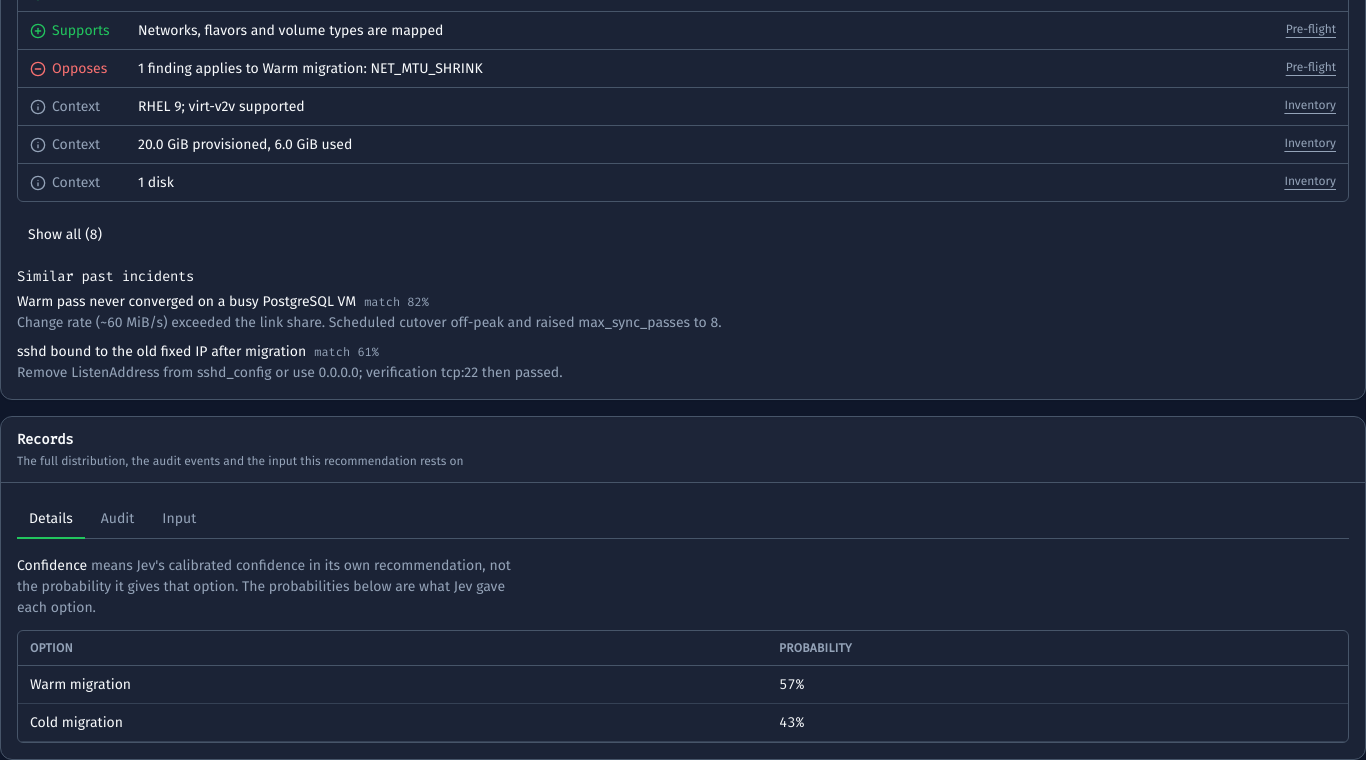
it: Recommendation detail (SDD §14.5, ADV-05) › says so when the input no longer matches its SHA-256
The image size is (1366, 760).
(page scrolled)
Click the tab "Input" at (179, 519), box [150,499,208,539]
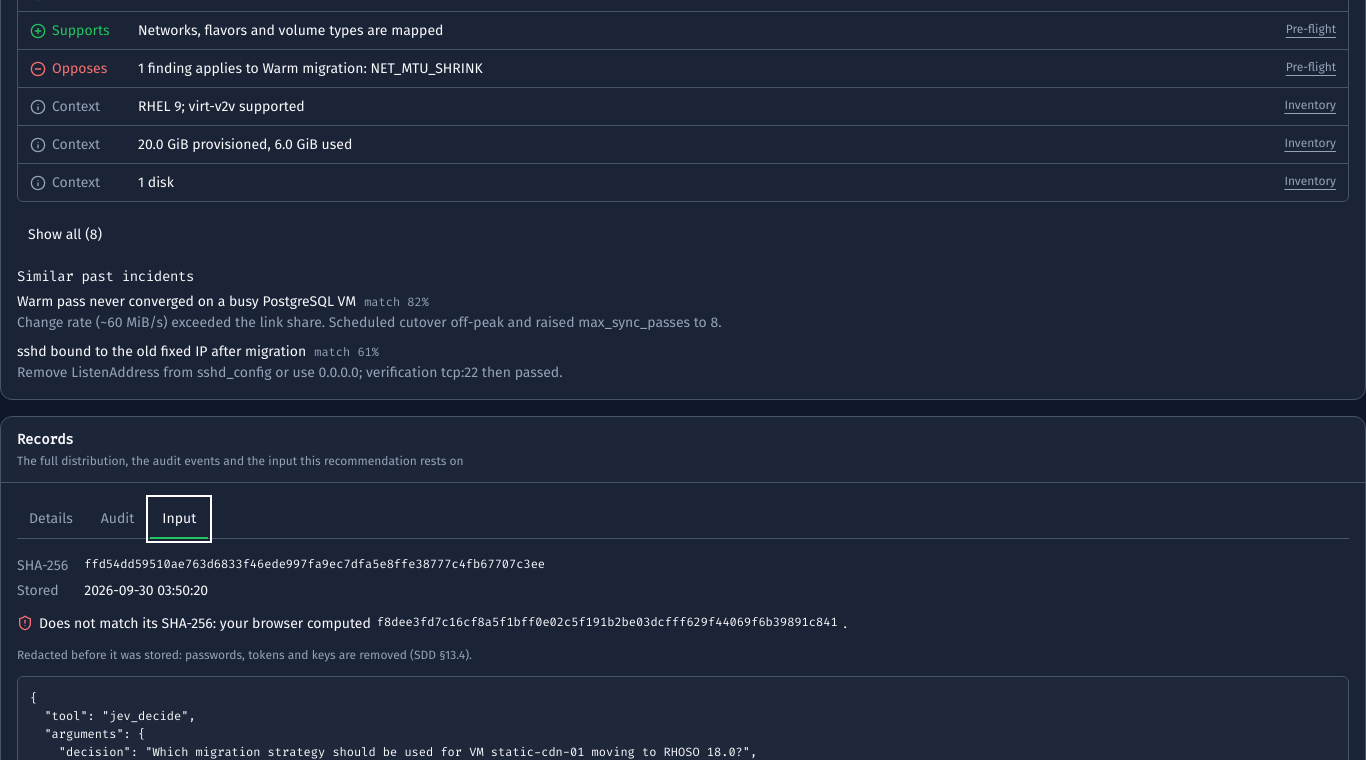
Now the text "Does not match its SHA-256" is shown, box [39,615,371,632]
